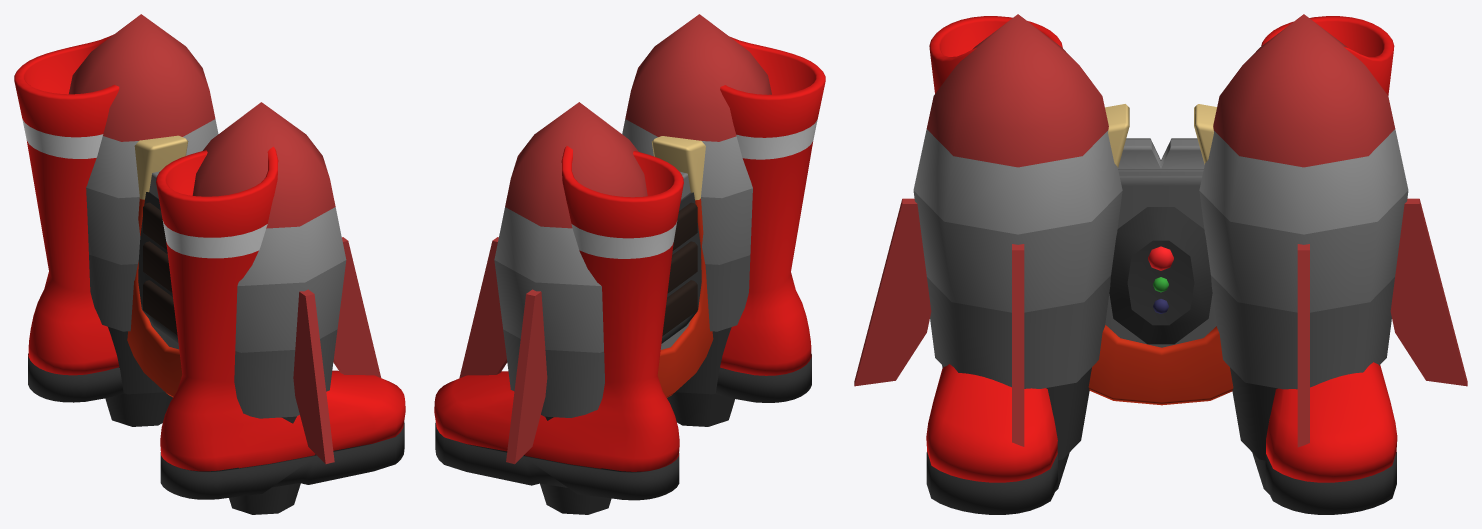
File: Boosts.fbx
3 renders of one model, left to right at view 1: azimuth 30°, elevation 25°; view 2: azimuth 150°, elevation 25°; view 3: azimuth 270°, elevation 25°, orthographic. The views are drawn at different scales.
Parts seen in each view (by area): view 1: jetpack, boots, magnet; view 2: jetpack, boots, magnet; view 3: jetpack, boots, magnet.
Part boxes in pixels (<box>): jetpack: <box>69,14,381,514</box>; boots: <box>14,34,405,499</box>; magnet: <box>127,135,188,397</box>; jetpack: <box>459,14,771,514</box>; boots: <box>434,36,825,500</box>; magnet: <box>652,136,713,397</box>; jetpack: <box>854,14,1467,494</box>; boots: <box>926,16,1397,514</box>; magnet: <box>1088,104,1233,405</box>.
Size of the model in its own units: 2.63 by 4.22 by 4.94.
